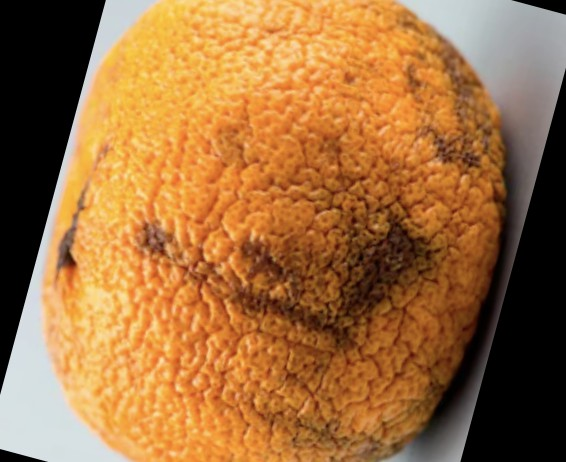rotten_orange: (41, 1, 503, 462)
